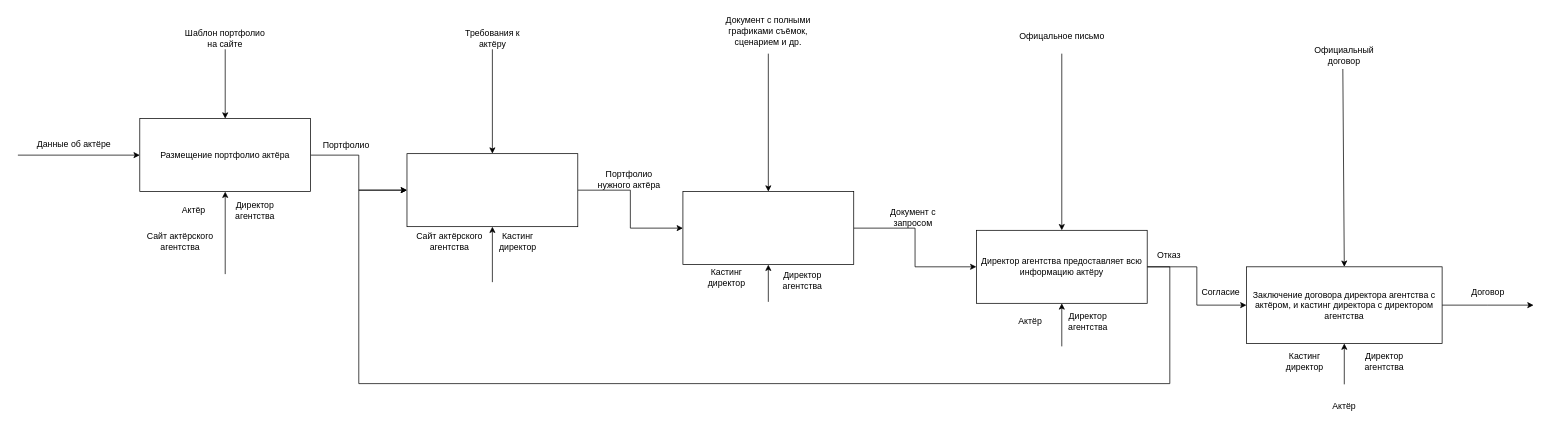
Image size: 1553x429. Some labels were removed from this diagram. The centre of each missing label's shape, as x and y in pixels:
Запрос актёра у директора агентства: the point at 768,228
Поиск актёра: the point at 492,190
